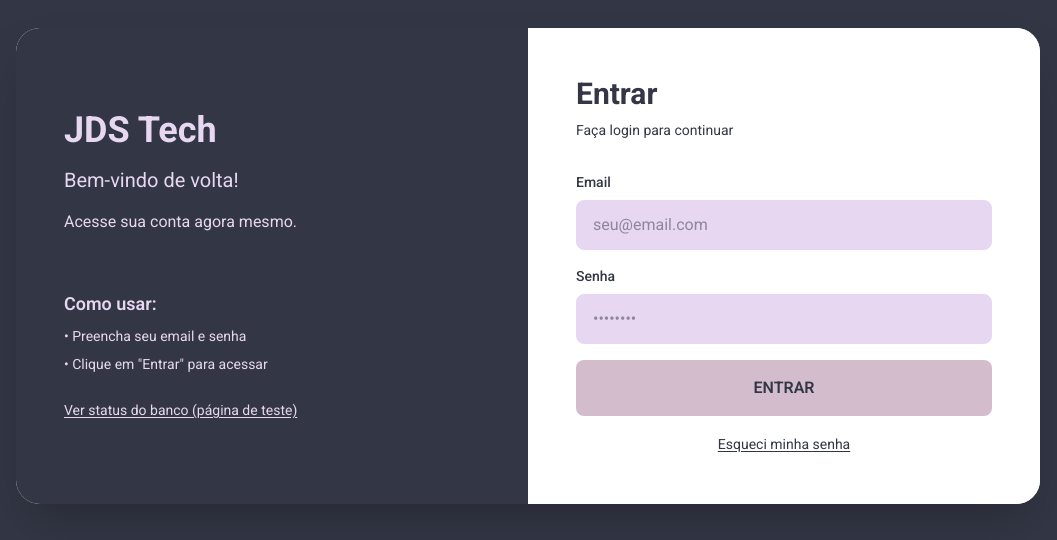
LoginPage › Validação de Campos › deve mostrar erro quando senha tem menos de 6 caracteres
Type "teste@email.com" into the field labelled "Email" at (784, 225), box [576,200,992,250]
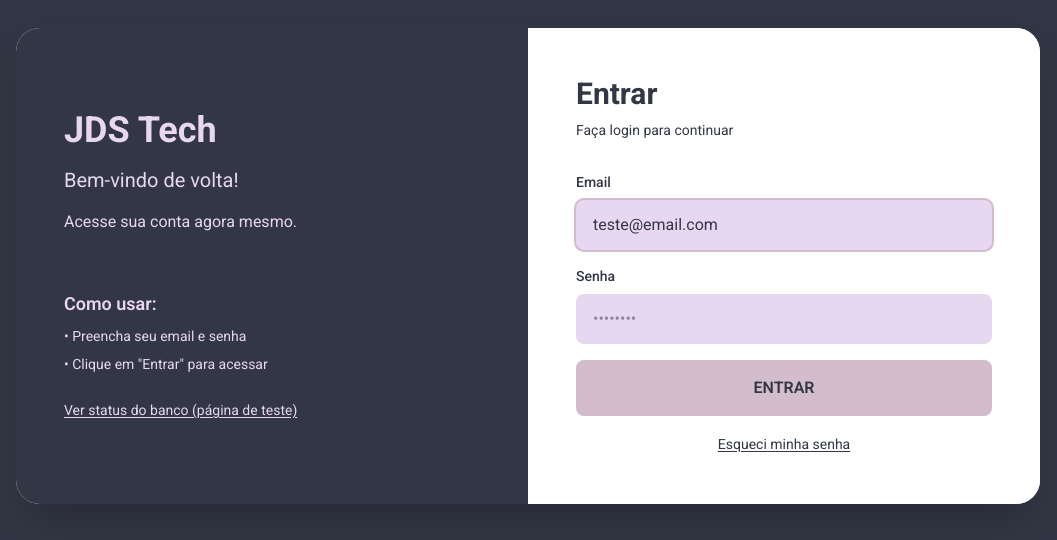
Type "12345" into the password field labelled "Senha" at (784, 319), box [576,294,992,344]
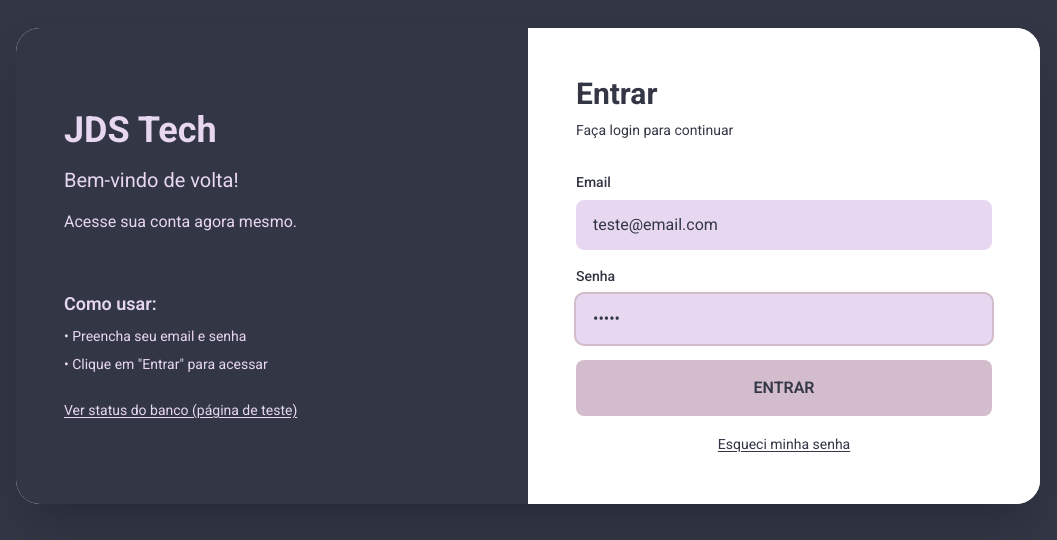
Click the button "ENTRAR" at (784, 388), box [576,360,992,416]
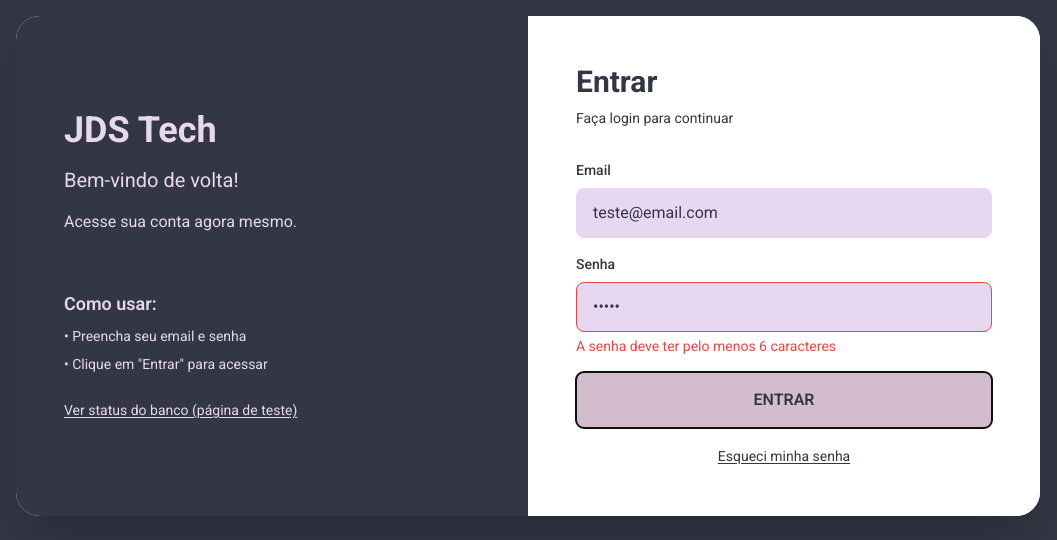
Expected: the text "A senha deve ter pelo menos 6 caracteres" is shown, [576,338,836,354]
